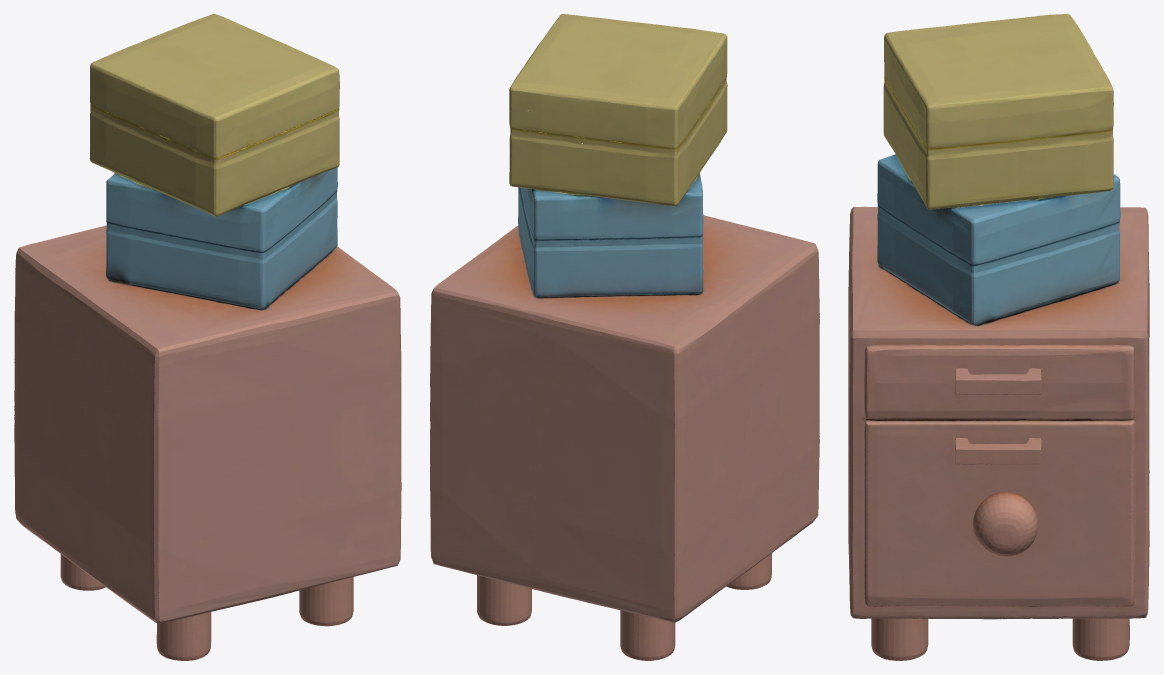
Rendered from cabinet_opt.glb.
3 renders of one model, left to right at view 1: azimuth 30°, elevation 25°; view 2: azimuth 150°, elevation 25°; view 3: azimuth 270°, elevation 25°, orthographic. The views are drawn at different scales.
Visible parts, largest first — view 1: tripo_node_3cac64c8-55d0-4e2f-ae52-d4d8811ff779; view 2: tripo_node_3cac64c8-55d0-4e2f-ae52-d4d8811ff779; view 3: tripo_node_3cac64c8-55d0-4e2f-ae52-d4d8811ff779.
Boxes of the visible parts, x1,y1,x2,y2 form: tripo_node_3cac64c8-55d0-4e2f-ae52-d4d8811ff779: (14,14,401,660); tripo_node_3cac64c8-55d0-4e2f-ae52-d4d8811ff779: (430,14,819,660); tripo_node_3cac64c8-55d0-4e2f-ae52-d4d8811ff779: (848,14,1149,660).
Size of the model in its own units: 0.5609 by 1 by 0.4874.
1 material, 1 textured.
